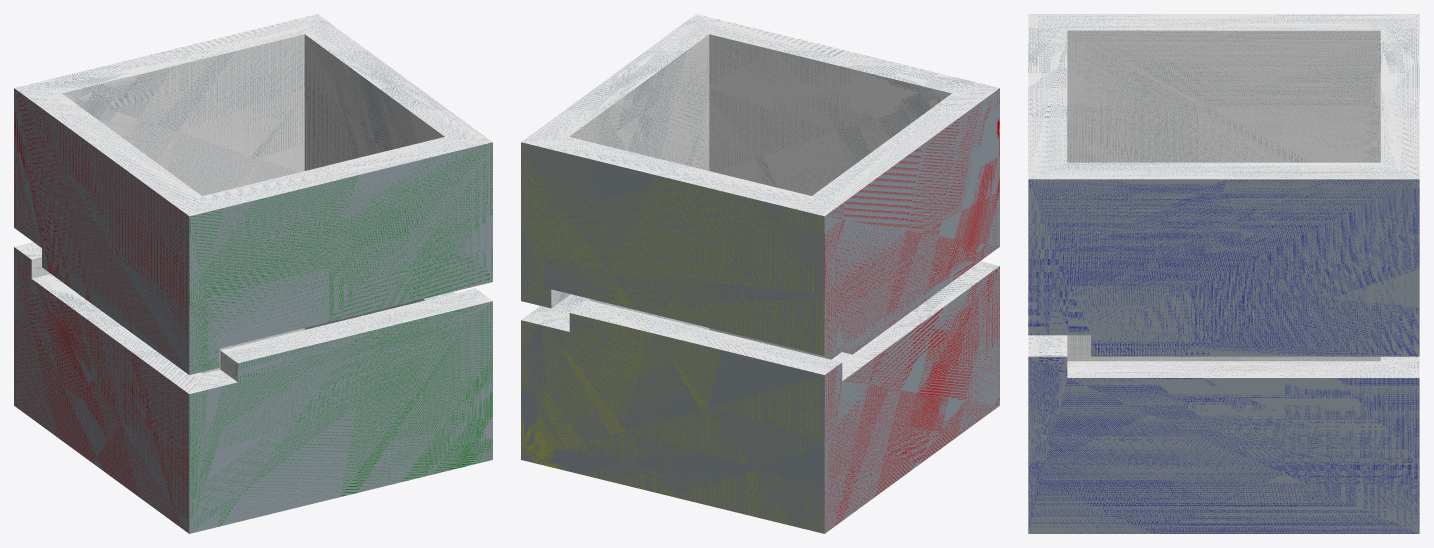
Rendered from caixa.obj.
3 renders of one model, left to right at view 1: azimuth 30°, elevation 25°; view 2: azimuth 150°, elevation 25°; view 3: azimuth 270°, elevation 25°, orthographic. The views are drawn at different scales.
Parts seen in each view (by area): view 1: Mesh2 Model, Mesh1 Model; view 2: Mesh2 Model, Mesh1 Model; view 3: Mesh2 Model, Mesh1 Model.
Part boxes in pixels (left/top/right/bottom): Mesh2 Model: left=14, top=14, right=492, bottom=374; Mesh1 Model: left=14, top=242, right=492, bottom=533; Mesh2 Model: left=521, top=14, right=999, bottom=355; Mesh1 Model: left=521, top=261, right=999, bottom=533; Mesh2 Model: left=1028, top=14, right=1419, bottom=356; Mesh1 Model: left=1028, top=335, right=1419, bottom=533.
Bounding box in the file's own units: 0.5 × 0.5 × 0.5.
